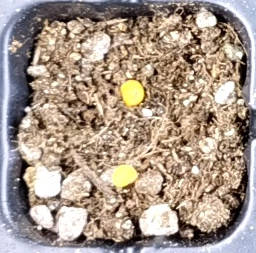chilli seed: (121, 79, 145, 105), (112, 164, 137, 187)
